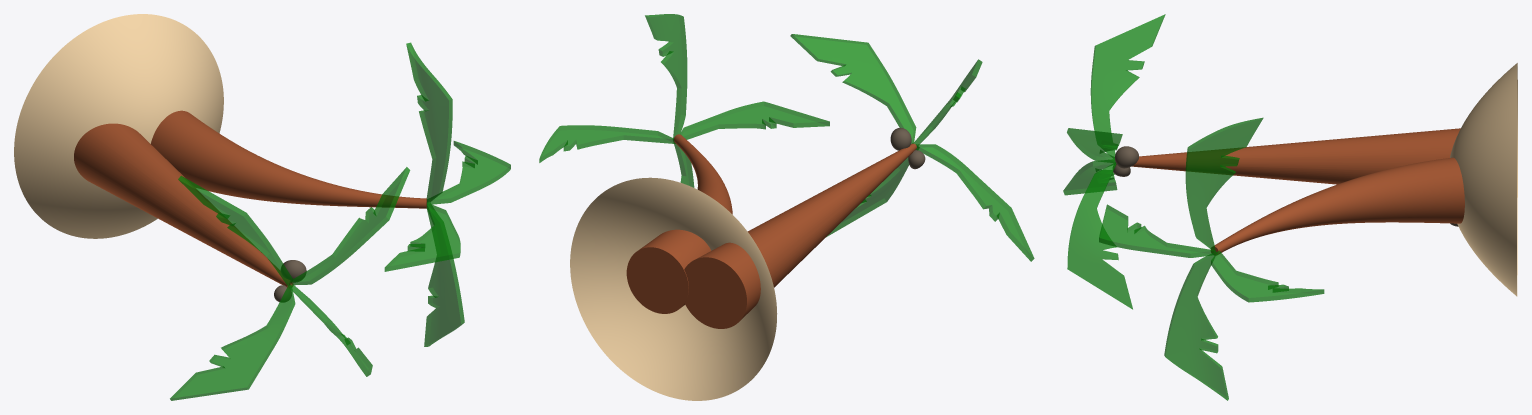
Rendered from palmtrees.fbx.
The picture shows the model from 3 angles, left to right: view 1: azimuth 30°, elevation 25°; view 2: azimuth 150°, elevation 25°; view 3: azimuth 270°, elevation 25°; orthographic projection. The views are drawn at different scales.
Parts seen in each view (by area): view 1: Object_3, Object_27, Object_9, Object_15, Object_13, Object_7, Object_19, Object_5, Object_17, Object_11, Object_21, Object_25; view 2: Object_3, Object_27, Object_9, Object_19, Object_5, Object_15, Object_13, Object_11, Object_21, Object_17, Object_7; view 3: Object_3, Object_9, Object_27, Object_7, Object_13, Object_21, Object_17, Object_5, Object_11, Object_15, Object_19, Object_25.
Boxes of the visible parts, x1,y1,x2,y2 form: Object_3: (14, 14, 223, 238); Object_27: (74, 123, 293, 287); Object_9: (151, 110, 426, 208); Object_15: (170, 284, 295, 400); Object_13: (406, 42, 452, 202); Object_7: (424, 202, 464, 346); Object_19: (290, 167, 410, 285); Object_5: (384, 202, 460, 271); Object_17: (178, 175, 292, 285); Object_11: (428, 141, 510, 204); Object_21: (290, 284, 372, 376); Object_25: (281, 260, 306, 282); Object_3: (570, 177, 777, 400); Object_27: (684, 143, 916, 328); Object_9: (626, 134, 732, 313); Object_19: (790, 34, 916, 143); Object_5: (680, 101, 829, 139); Object_15: (916, 144, 1034, 261); Object_13: (645, 14, 687, 138); Object_11: (539, 125, 675, 162); Object_21: (826, 147, 918, 237); Object_17: (914, 59, 982, 146); Object_7: (674, 143, 694, 187); Object_3: (1450, 63, 1517, 296); Object_9: (1210, 157, 1464, 254); Object_27: (1116, 128, 1460, 184); Object_7: (1164, 252, 1228, 400); Object_13: (1185, 117, 1263, 253); Object_21: (1067, 162, 1132, 309); Object_17: (1090, 14, 1165, 158); Object_5: (1099, 204, 1214, 257); Object_11: (1211, 250, 1324, 302); Object_15: (1063, 160, 1117, 195); Object_19: (1067, 128, 1122, 163); Object_25: (1115, 146, 1138, 168).
Bounding box in the file's own units: 3.48 × 2.36 × 3.45.
